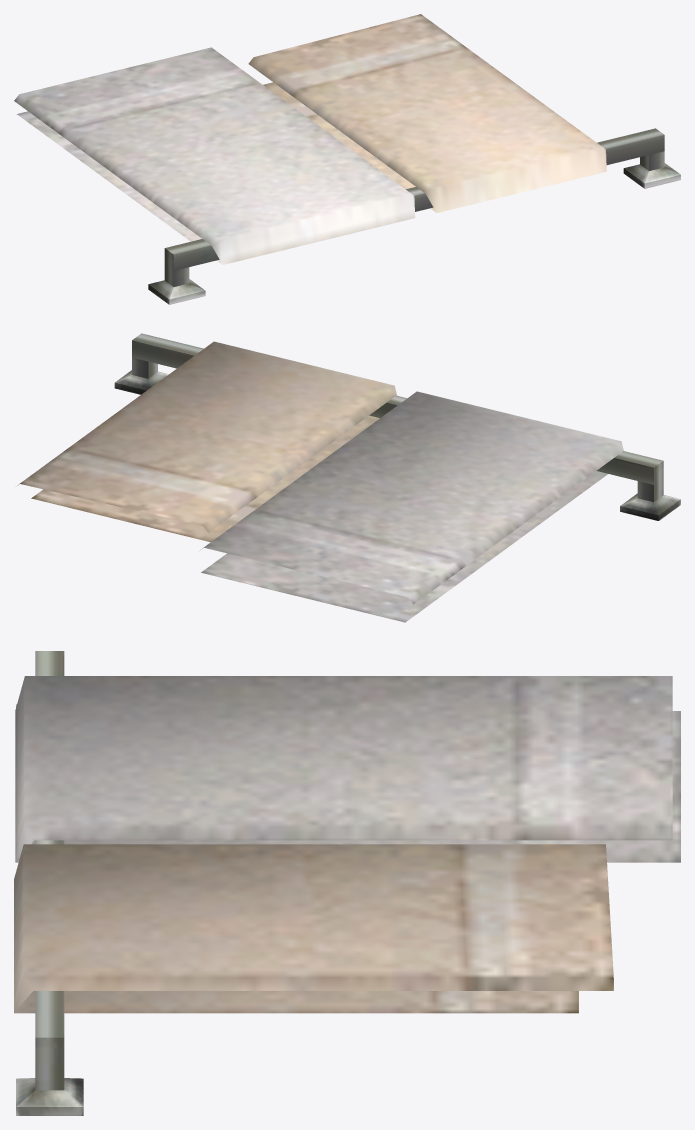
File: towel_rack1.fbx
3 views of the same model, one above another, from view 1: azimuth 30°, elevation 25°; view 2: azimuth 150°, elevation 25°; view 3: azimuth 270°, elevation 25° (orthographic). The views are drawn at different scales.
Visible parts, largest first — view 1: mesh_2, mesh_1, mesh_0; view 2: mesh_2, mesh_1, mesh_0; view 3: mesh_2, mesh_1, mesh_0.
Boxes of the visible parts, x1,y1,x2,y2 form: mesh_2: [14, 47, 415, 264]; mesh_1: [248, 14, 606, 212]; mesh_0: [148, 128, 680, 304]; mesh_2: [201, 391, 623, 622]; mesh_1: [17, 341, 396, 542]; mesh_0: [114, 333, 680, 520]; mesh_2: [15, 676, 680, 862]; mesh_1: [14, 844, 613, 1013]; mesh_0: [16, 651, 83, 1115].
Bounding box in the file's own units: 98.75 × 9 × 69.08.
Materials: 1 (1 with a texture image).
